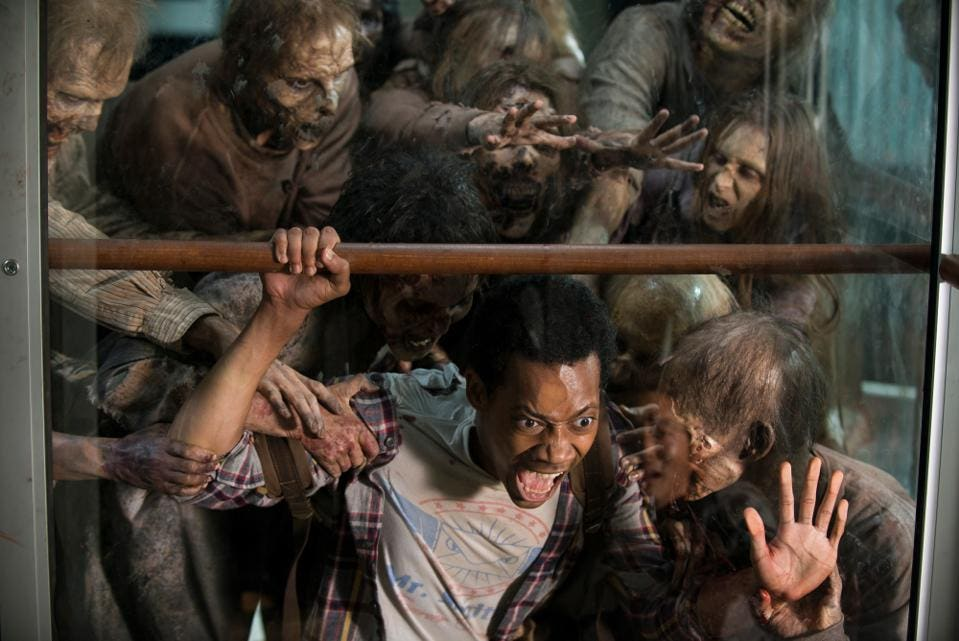-: (631, 312, 916, 636)
